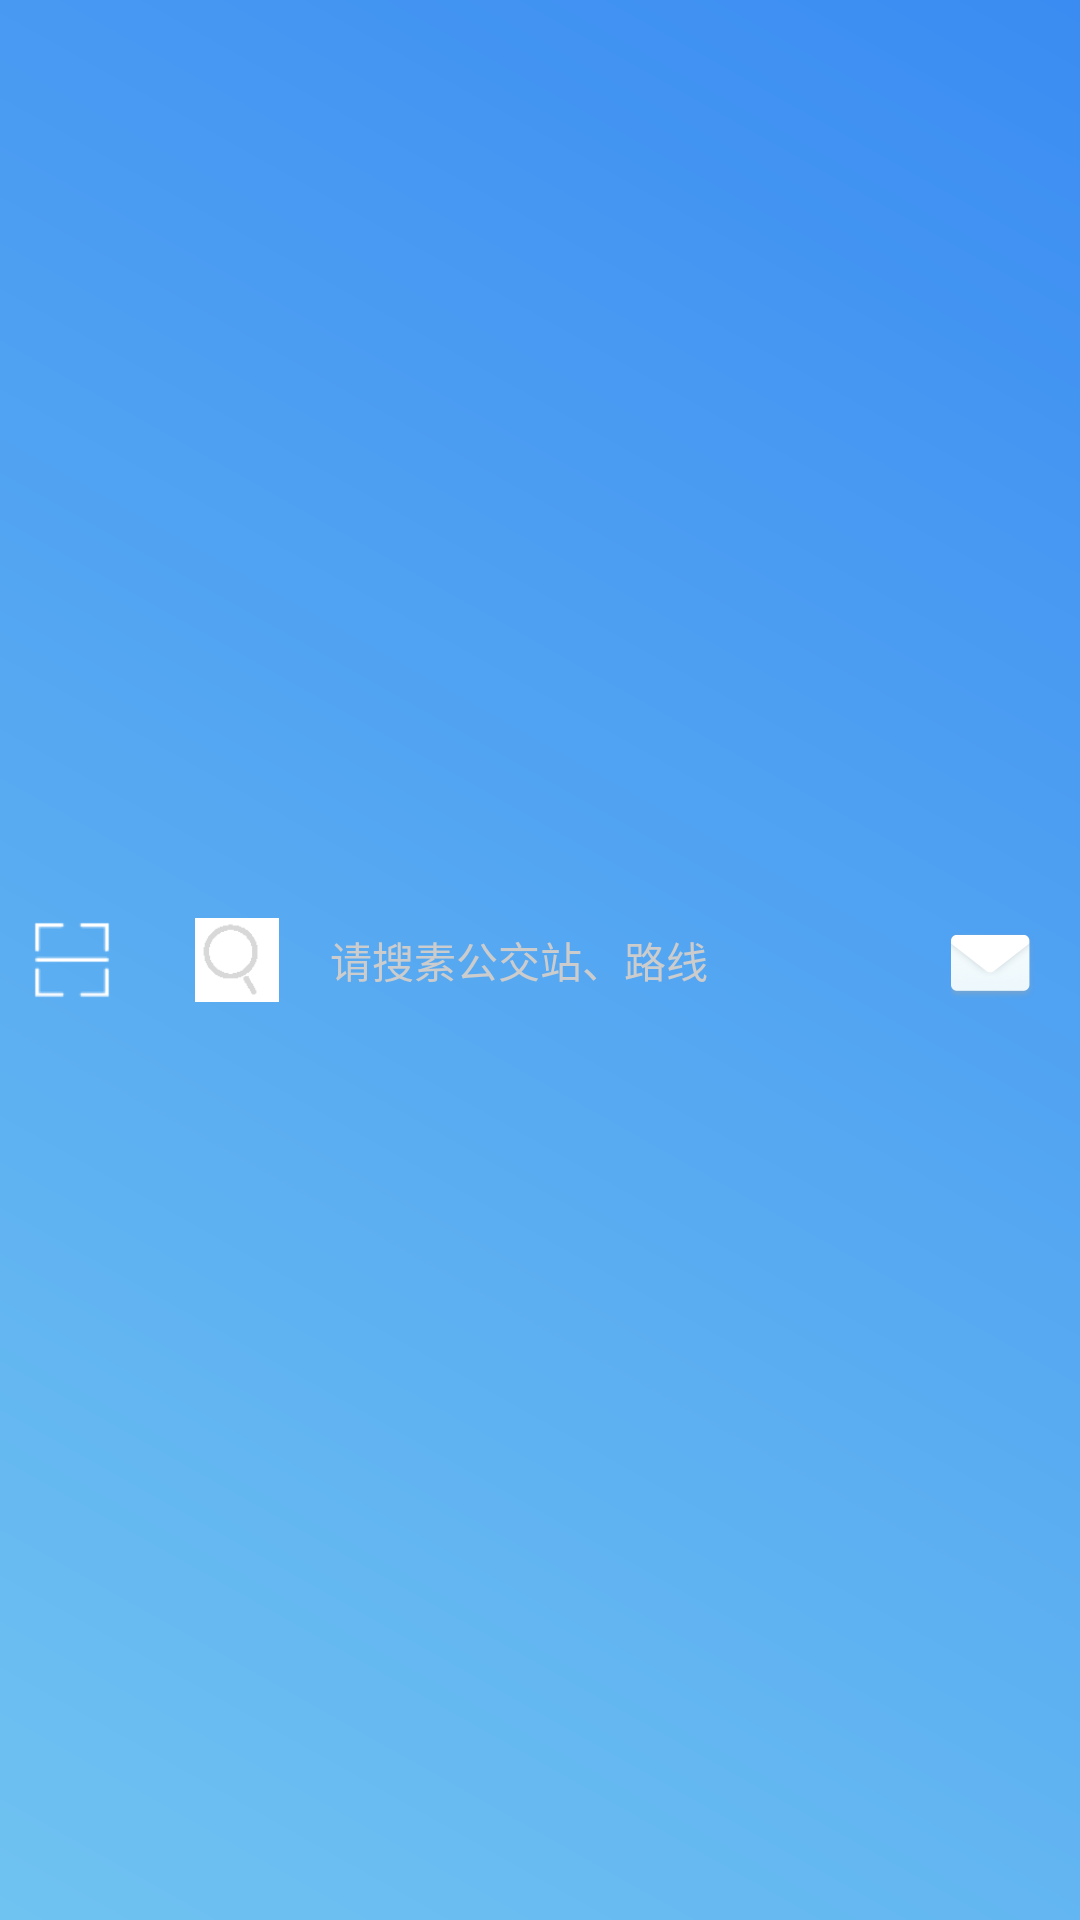

Icon click points for this 1080×1920 phone screenshot, format (x=x, y=y):
scan: (x=72, y=960)
search: (x=237, y=960)
